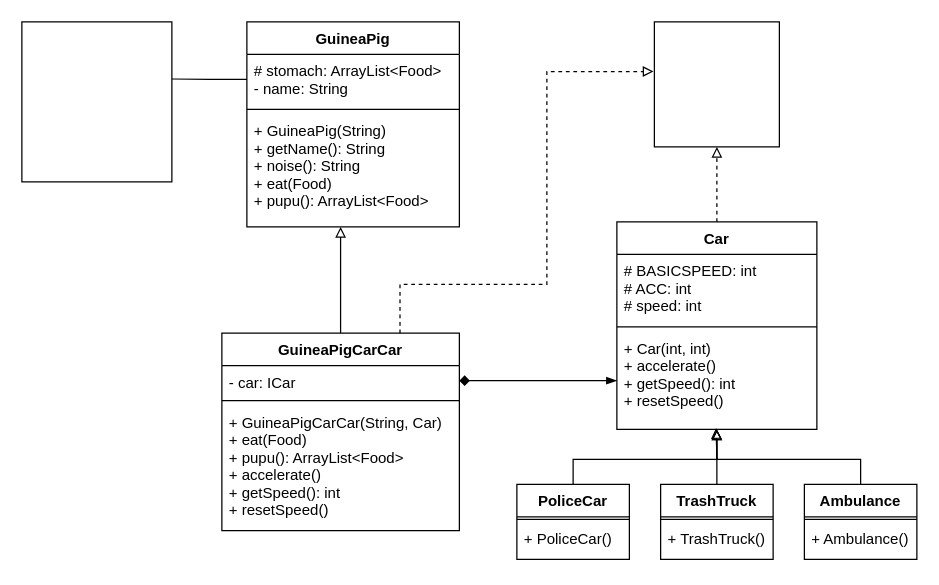
This 939x585 diagram has some shape labels left out. The centre of each missing label's shape, as x and y in pixels:
<<Enumeration>> Food Carrot Lettuce Garbage Refrigerator Pupu: point (96, 101)
<<Interface>> ICar + accelerate() + getSpeed(): int + resetSpeed(): point (716, 84)
